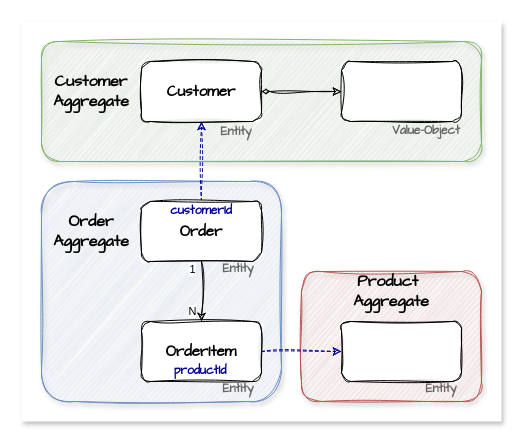
The diagram is 524 pixels wide and 445 high, and some of its shapes have lost their labels. Here are the shapes that lost their labels. From the top down, the centre of each, then its label:
pixel 401 91: Address
pixel 401 351: Product
